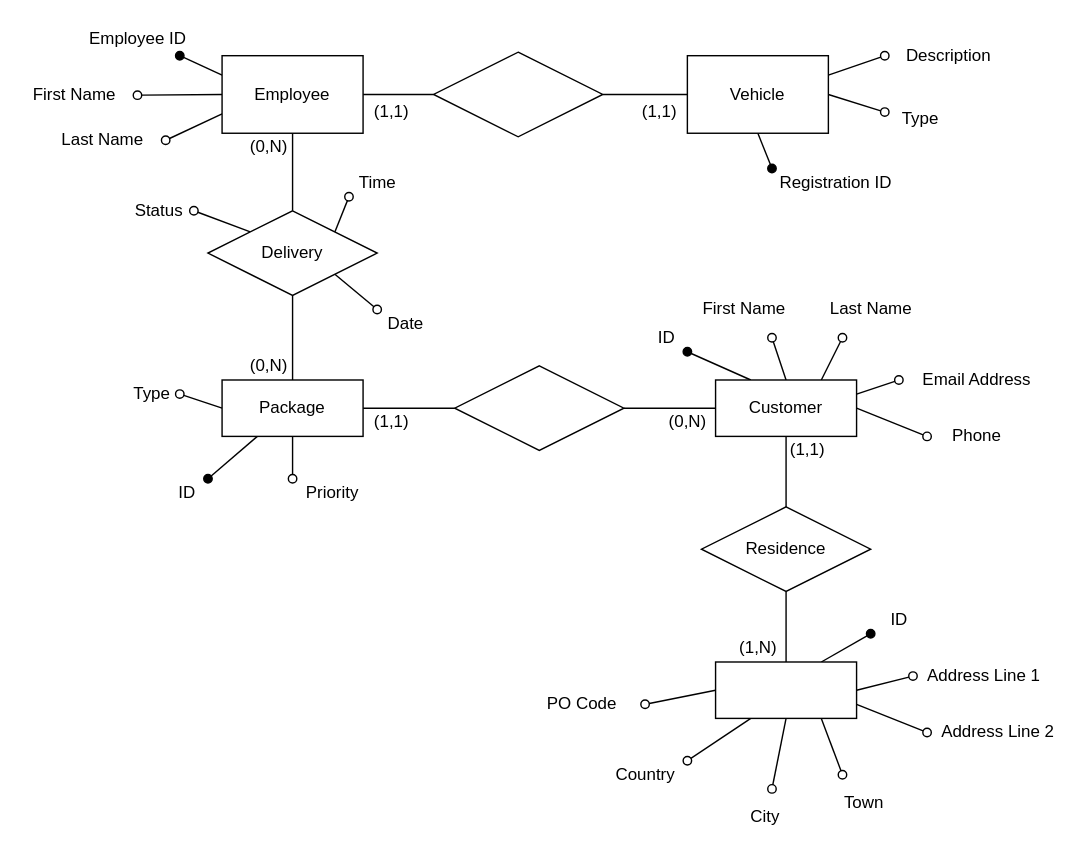
Image size: 1091x856. Some labels were removed from this diagram. Here are the shapes that lost their labels. From the top down, the centre of each, then its label:
At (517,94): "Assignment".
At (538,407): "Recipient".
At (785,689): "Address".
